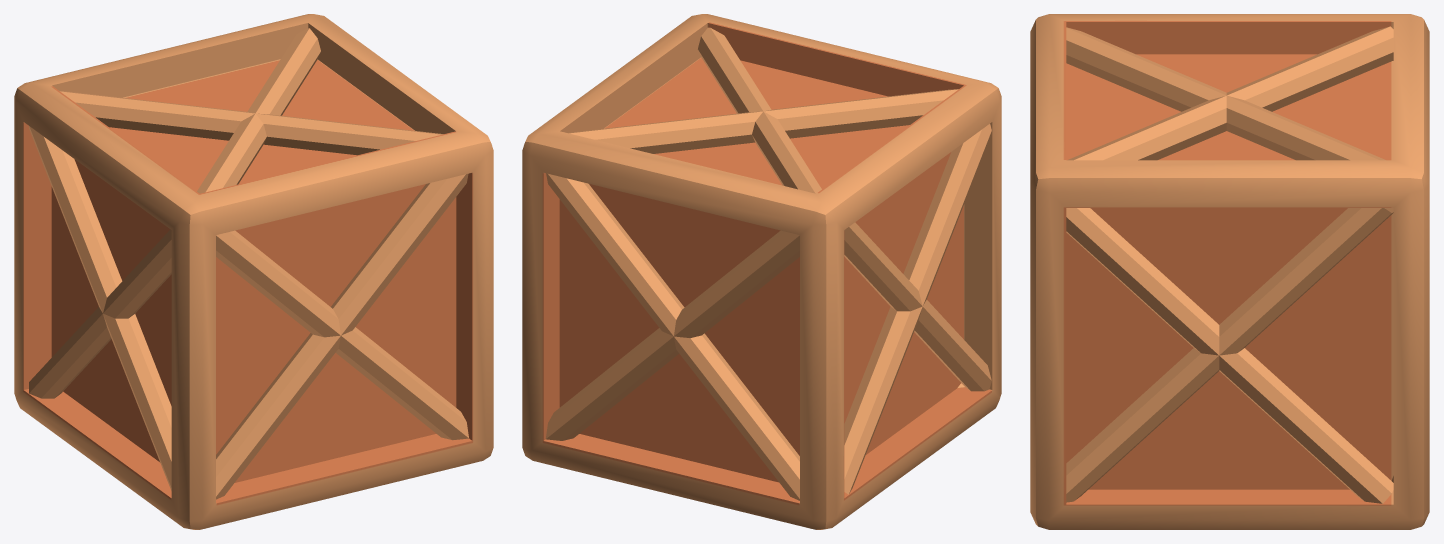
File: wood_box.fbx
3 views of the same model, side by side, from view 1: azimuth 30°, elevation 25°; view 2: azimuth 150°, elevation 25°; view 3: azimuth 270°, elevation 25° (orthographic). The views are drawn at different scales.
Visible parts, largest first — view 1: Cube.007; view 2: Cube.007; view 3: Cube.007.
Boxes of the visible parts, x1=… form: Cube.007: x1=14, y1=14, x2=493, y2=529; Cube.007: x1=522, y1=14, x2=1001, y2=529; Cube.007: x1=1030, y1=14, x2=1429, y2=529.
Bounding box in the file's own units: 22.19 × 22.19 × 22.19.
Materials: 1 (1 with a texture image).
